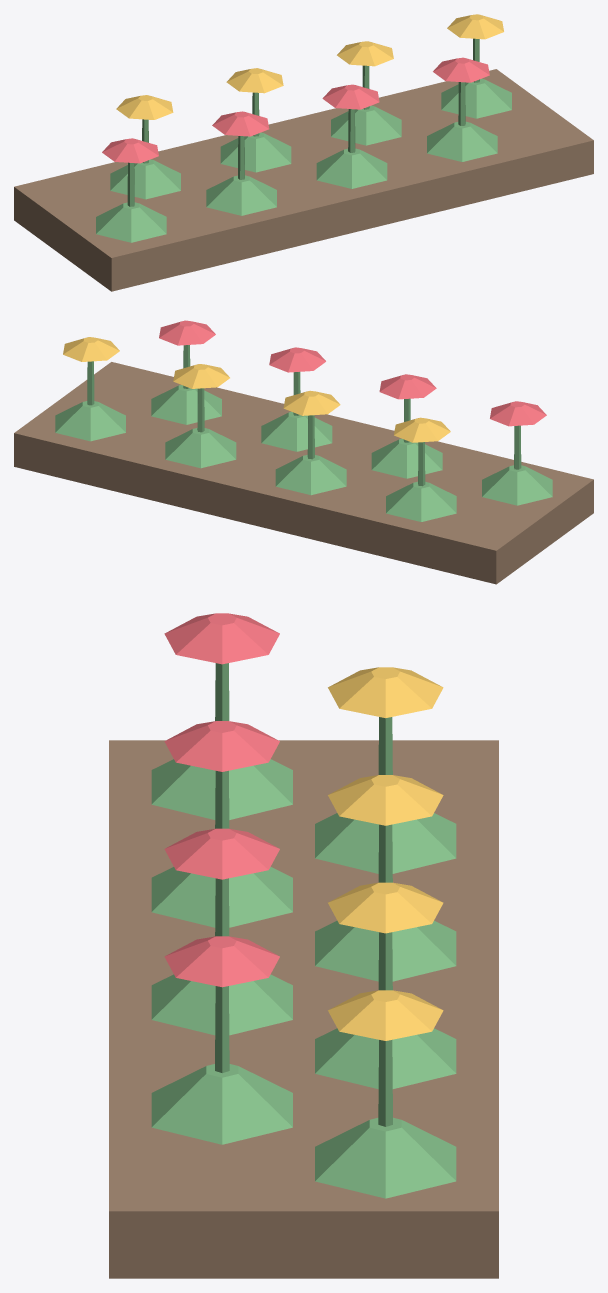
The model's file is flora_38_gerbera_jamesonii_luong_hoa_dong_tien_nha_kinh_van_thanh.glb.
3 views of the same model, one above another, from view 1: azimuth 30°, elevation 25°; view 2: azimuth 150°, elevation 25°; view 3: azimuth 270°, elevation 25° (orthographic). The views are drawn at different scales.
Parts seen in each view (by area): view 1: flora_38_gerbera_jamesonii_luong_hoa_dong_tien_nha_kinh_van_; view 2: flora_38_gerbera_jamesonii_luong_hoa_dong_tien_nha_kinh_van_; view 3: flora_38_gerbera_jamesonii_luong_hoa_dong_tien_nha_kinh_van_.
Part boxes in pixels (left/top/right/bottom): flora_38_gerbera_jamesonii_luong_hoa_dong_tien_nha_kinh_van_: left=14, top=14, right=593, bottom=291; flora_38_gerbera_jamesonii_luong_hoa_dong_tien_nha_kinh_van_: left=14, top=320, right=593, bottom=584; flora_38_gerbera_jamesonii_luong_hoa_dong_tien_nha_kinh_van_: left=109, top=613, right=498, bottom=1278.
Size of the model in its own units: 3 by 0.7 by 1.05.
